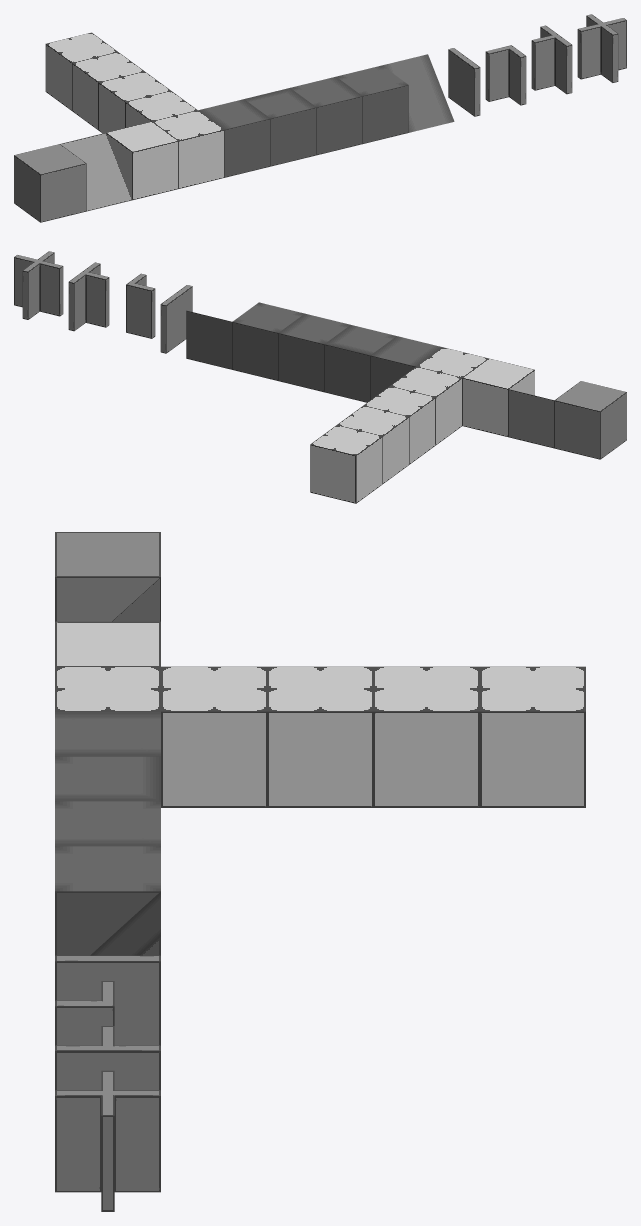
Rendered from Tiles.glb.
The picture shows the model from 3 angles, top to bottom: view 1: azimuth 30°, elevation 25°; view 2: azimuth 150°, elevation 25°; view 3: azimuth 270°, elevation 25°; orthographic projection. The views are drawn at different scales.
Parts seen in each view (by area): view 1: GroundTile_col, TowerTile_col, PathTile1_col, Emitter_col, PathTile2_col, PathTile3_col, PathTile4_col, WallTile4_col, PathRampTile_col, GroundRampTile_col, Prism_col, Lens_col (+5 smaller); view 2: GroundTile_col, Prism_col, TowerTile_col, PathTile4_col, PathTile3_col, PathTile2_col, WallTile4_col, Lens_col, Mirror_col, Filter_col, WallTile3_col, PathRampTile_col (+5 smaller); view 3: Filter_col, Mirror_col, Lens_col, Prism_col, WallTile4_col, PathTile4_col, GroundTile_col, WallTile1_col, WallTile3_col, TowerTile_col, Emitter_col, PathTile1_col (+5 smaller).
Part boxes in pixels (x1=…): GroundTile_col: x1=14, y1=144, x2=86, y2=222; TowerTile_col: x1=106, y1=121, x2=178, y2=200; PathTile1_col: x1=198, y1=99, x2=270, y2=177; Emitter_col: x1=152, y1=110, x2=224, y2=188; PathTile2_col: x1=244, y1=88, x2=316, y2=166; PathTile3_col: x1=290, y1=76, x2=362, y2=155; PathTile4_col: x1=336, y1=65, x2=408, y2=143; WallTile4_col: x1=577, y1=14, x2=626, y2=82; PathRampTile_col: x1=382, y1=54, x2=454, y2=132; GroundRampTile_col: x1=60, y1=133, x2=132, y2=211; Prism_col: x1=45, y1=32, x2=117, y2=110; Lens_col: x1=72, y1=52, x2=144, y2=130; GroundTile_col: x1=554, y1=381, x2=626, y2=459; Prism_col: x1=310, y1=425, x2=382, y2=503; TowerTile_col: x1=462, y1=358, x2=534, y2=436; PathTile4_col: x1=232, y1=302, x2=304, y2=380; PathTile3_col: x1=278, y1=313, x2=350, y2=392; PathTile2_col: x1=324, y1=325, x2=396, y2=402; WallTile4_col: x1=14, y1=251, x2=63, y2=319; Lens_col: x1=337, y1=405, x2=409, y2=483; Mirror_col: x1=390, y1=366, x2=462, y2=444; Filter_col: x1=363, y1=386, x2=435, y2=464; WallTile3_col: x1=68, y1=262, x2=109, y2=331; PathRampTile_col: x1=186, y1=310, x2=232, y2=369; Filter_col: x1=267, y1=666, x2=373, y2=807; Mirror_col: x1=161, y1=666, x2=267, y2=807; Lens_col: x1=373, y1=666, x2=479, y2=807; Prism_col: x1=480, y1=666, x2=585, y2=807; WallTile4_col: x1=55, y1=1070, x2=160, y2=1211; PathTile4_col: x1=55, y1=846, x2=160, y2=955; GroundTile_col: x1=55, y1=532, x2=160, y2=621; WallTile1_col: x1=55, y1=955, x2=160, y2=1045; WallTile3_col: x1=55, y1=1026, x2=160, y2=1090; TowerTile_col: x1=55, y1=621, x2=160, y2=666; Emitter_col: x1=55, y1=666, x2=160, y2=711; PathTile1_col: x1=55, y1=711, x2=160, y2=756.
Size of the model in its own units: 26 by 2 by 10.
1 material, 1 textured.
